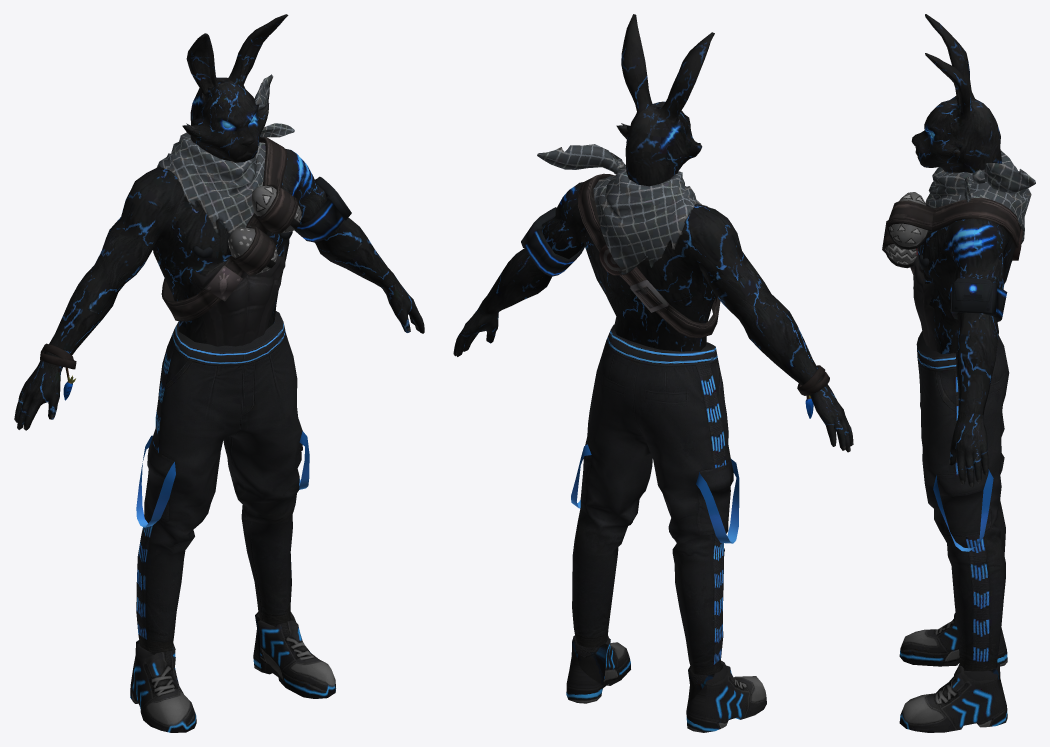
Rendered from free_fire_new_bunny_bundle_3d_model.glb.
3 views of the same model, side by side, from view 1: azimuth 30°, elevation 25°; view 2: azimuth 150°, elevation 25°; view 3: azimuth 270°, elevation 25° (orthographic). The views are drawn at different scales.
Visible parts, largest first — view 1: Object_6, Object_2, Object_5, Object_3; view 2: Object_6, Object_2, Object_3, Object_5; view 3: Object_6, Object_2, Object_5, Object_3.
Part boxes in pixels (box(x1,y1,x2,y2)): Object_6: box(14, 74, 424, 430); Object_2: box(136, 311, 309, 653); Object_5: box(130, 612, 335, 732); Object_3: box(182, 14, 288, 162); Object_6: box(453, 144, 853, 452); Object_2: box(571, 324, 739, 674); Object_3: box(616, 14, 714, 186); Object_5: box(566, 635, 766, 732); Object_6: box(882, 150, 1035, 487); Object_2: box(916, 331, 1009, 671); Object_5: box(899, 612, 1007, 732); Object_3: box(911, 14, 1002, 172).
Bounding box in the file's own units: 0.644 × 1.04 × 0.2196.
5 materials, 5 textured.
